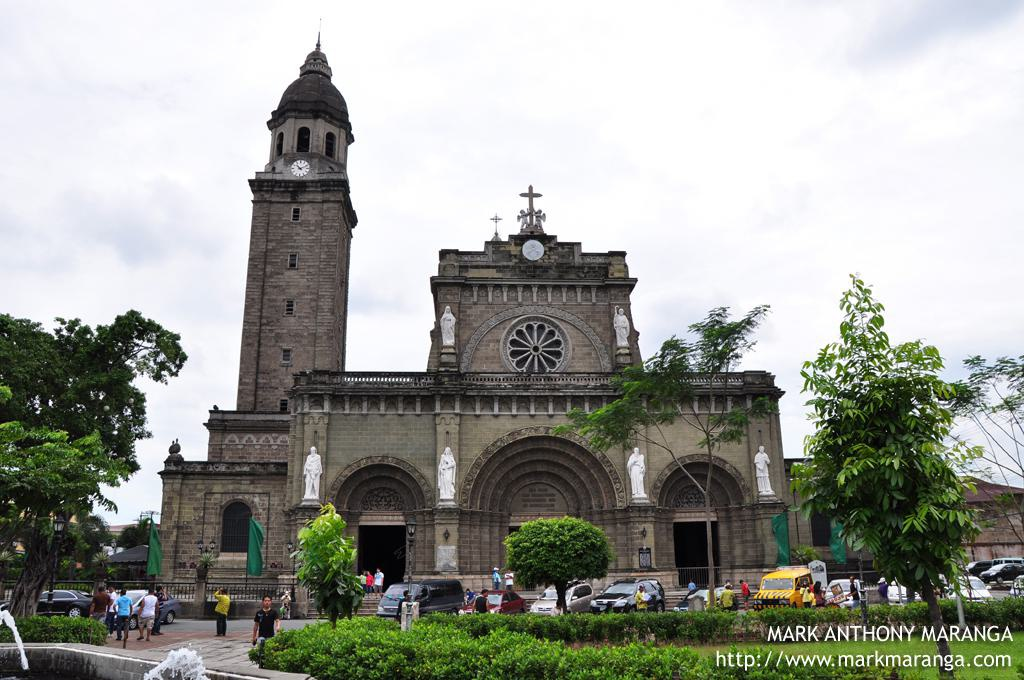manila_cathedral_church_intramuros_manila: (162, 24, 796, 615)
